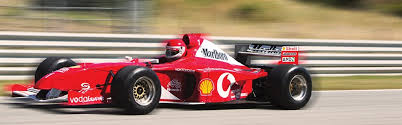FormulaOneCar: (7, 17, 320, 125)
